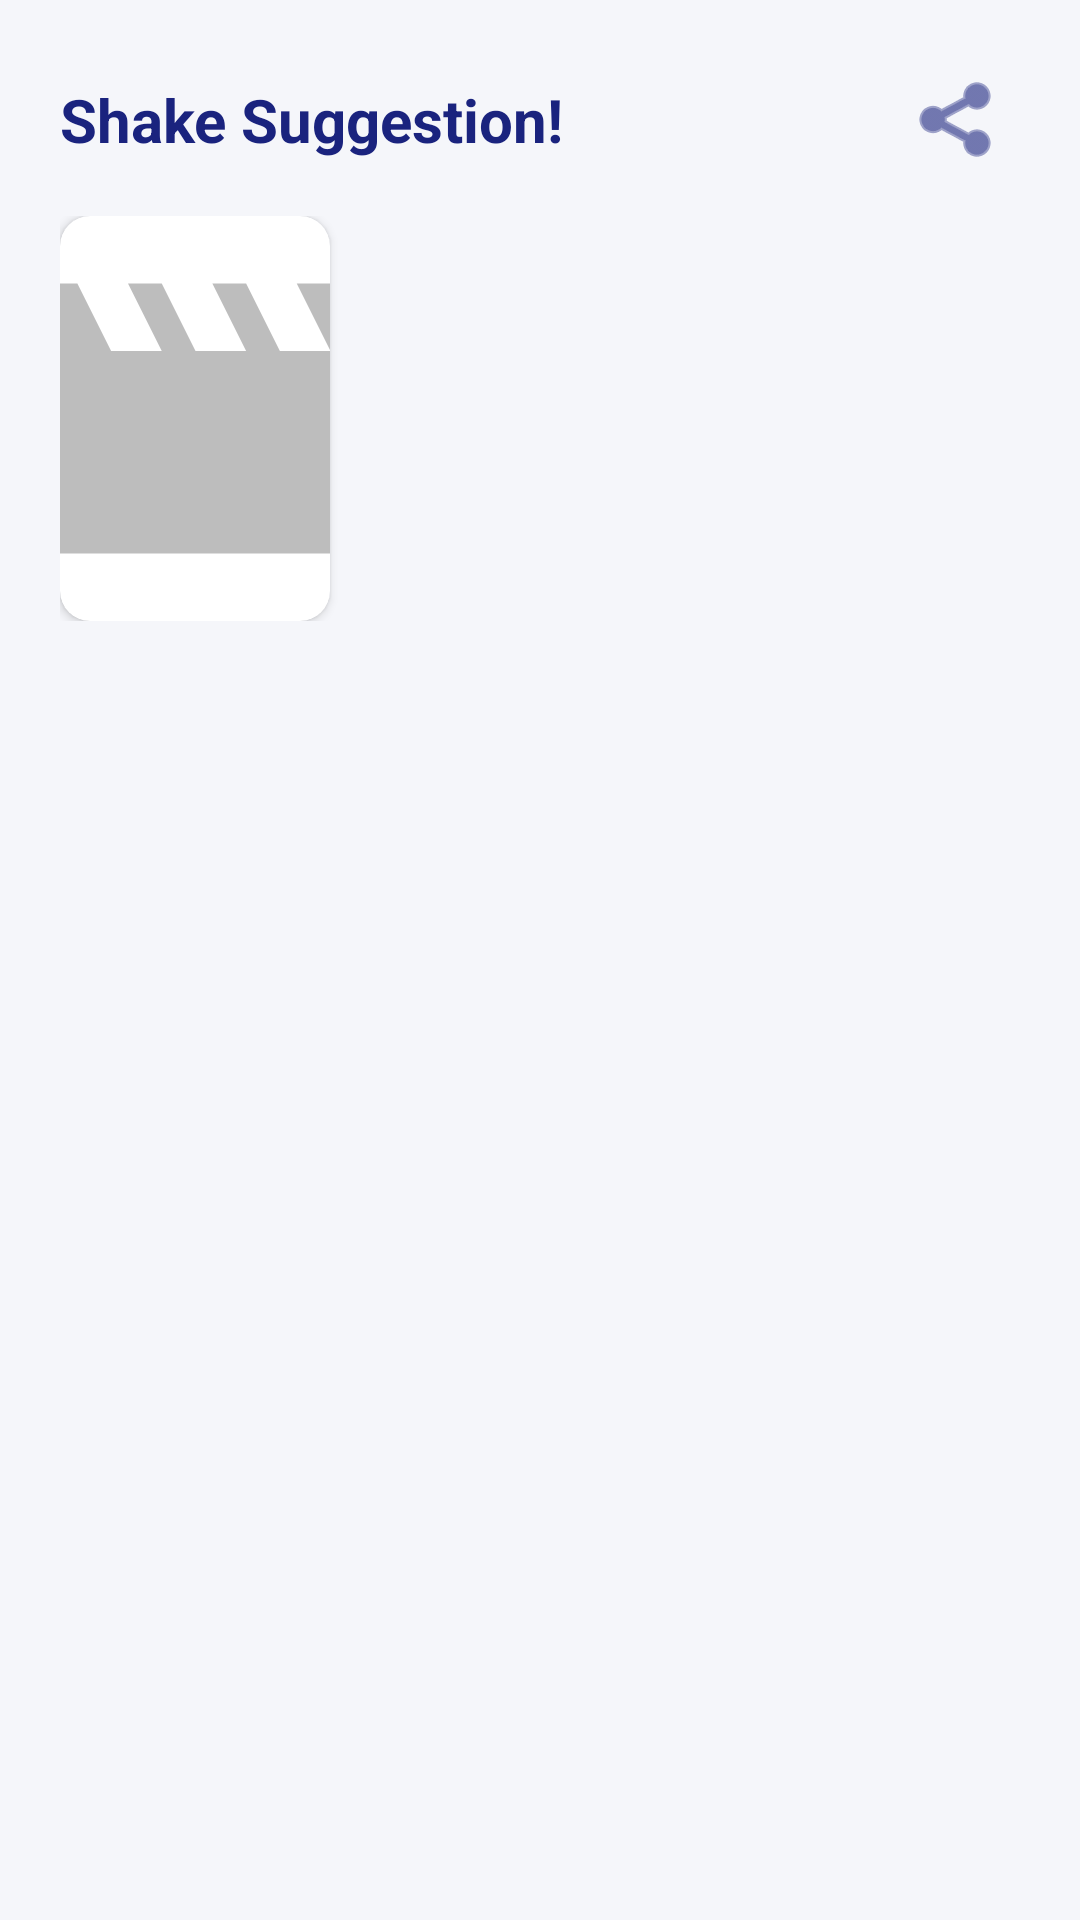

Icon bounding boxes for this 1080px×1920px phone screenshot, format (x1, y1, x2, y2):
Share Movie: (919, 82, 991, 157)
